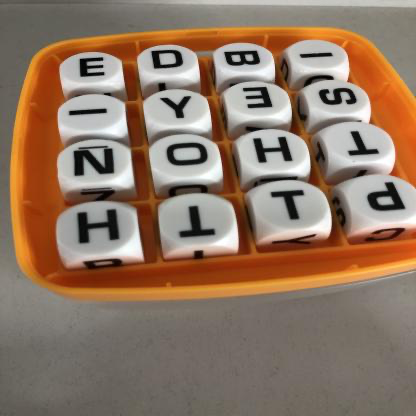b: (218, 44, 273, 77)
d: (141, 44, 195, 80)
e: (230, 82, 288, 120), (65, 52, 122, 89)
h: (59, 204, 140, 257), (240, 132, 310, 175)
i: (60, 94, 125, 136), (293, 41, 346, 75)
n: (62, 142, 133, 186)
o: (152, 136, 221, 183)
p: (343, 178, 415, 225)
s: (308, 81, 368, 118)
t: (162, 197, 236, 250), (254, 184, 329, 235), (328, 123, 394, 166)
y: (146, 92, 211, 131)
